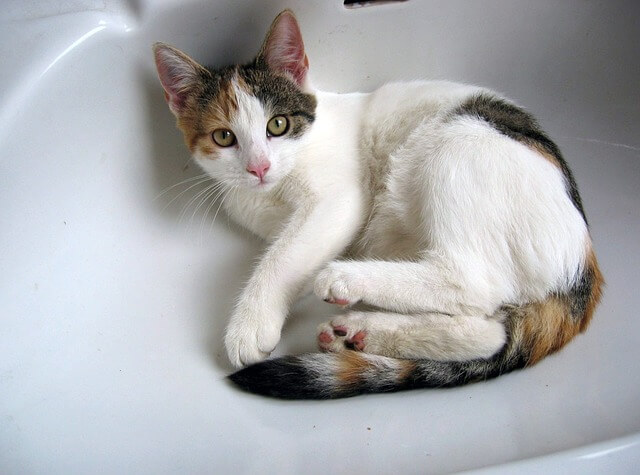cat: (141, 18, 601, 374)
